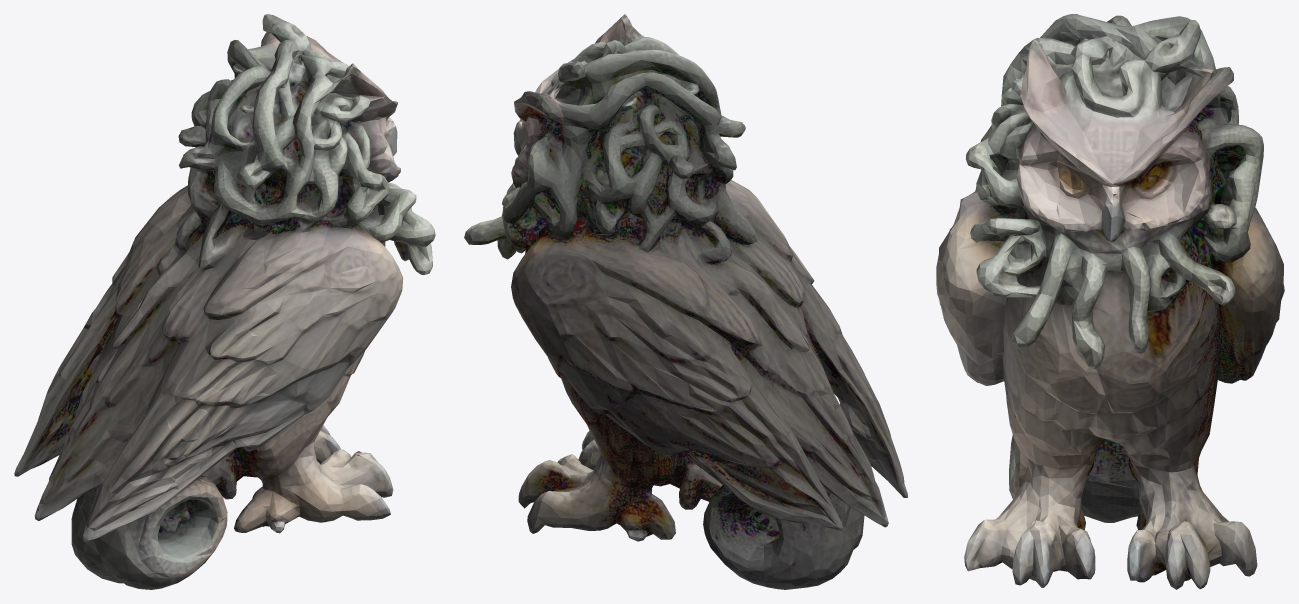
File: nightveil.glb
3 views of the same model, side by side, from view 1: azimuth 30°, elevation 25°; view 2: azimuth 150°, elevation 25°; view 3: azimuth 270°, elevation 25° (orthographic). The views are drawn at different scales.
Parts seen in each view (by area): view 1: world; view 2: world; view 3: world.
Boxes of the visible parts, x1,y1,x2,y2 form: world: [14, 14, 435, 589]; world: [464, 14, 907, 589]; world: [936, 14, 1284, 589].
Bounding box in the file's own units: 0.7629 × 0.9606 × 0.5077.
1 material, 1 textured.
